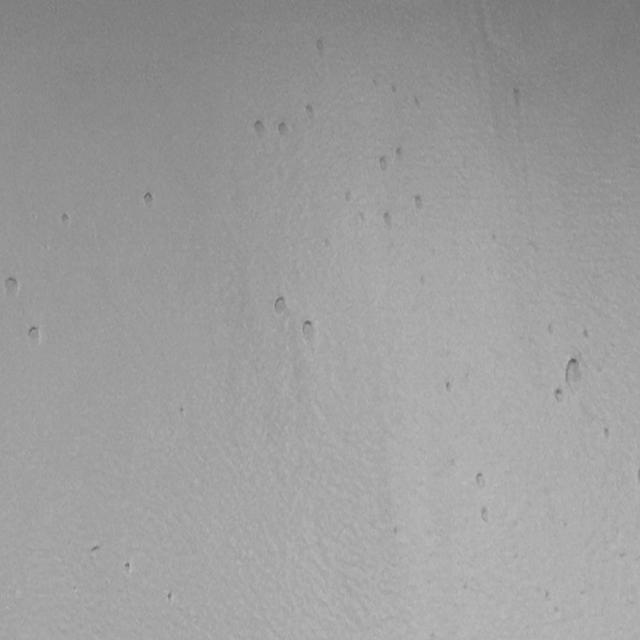pin holes: (298, 317, 319, 349), (2, 274, 24, 302), (565, 357, 586, 385), (25, 323, 45, 350), (310, 36, 330, 60), (275, 118, 294, 143), (272, 293, 291, 317), (509, 84, 527, 109), (477, 504, 496, 526), (472, 469, 490, 492), (375, 154, 394, 175), (302, 102, 320, 124), (140, 190, 157, 212), (552, 385, 568, 408), (252, 120, 269, 140), (380, 211, 396, 232), (411, 193, 426, 214), (58, 212, 73, 232), (442, 377, 457, 396), (394, 145, 408, 164), (322, 234, 336, 253), (89, 542, 105, 557), (599, 426, 612, 444), (341, 189, 354, 205), (414, 96, 426, 113), (122, 562, 136, 576), (178, 404, 190, 420), (389, 82, 399, 99), (164, 590, 176, 604), (581, 328, 593, 342), (420, 272, 428, 290), (392, 522, 400, 539)
